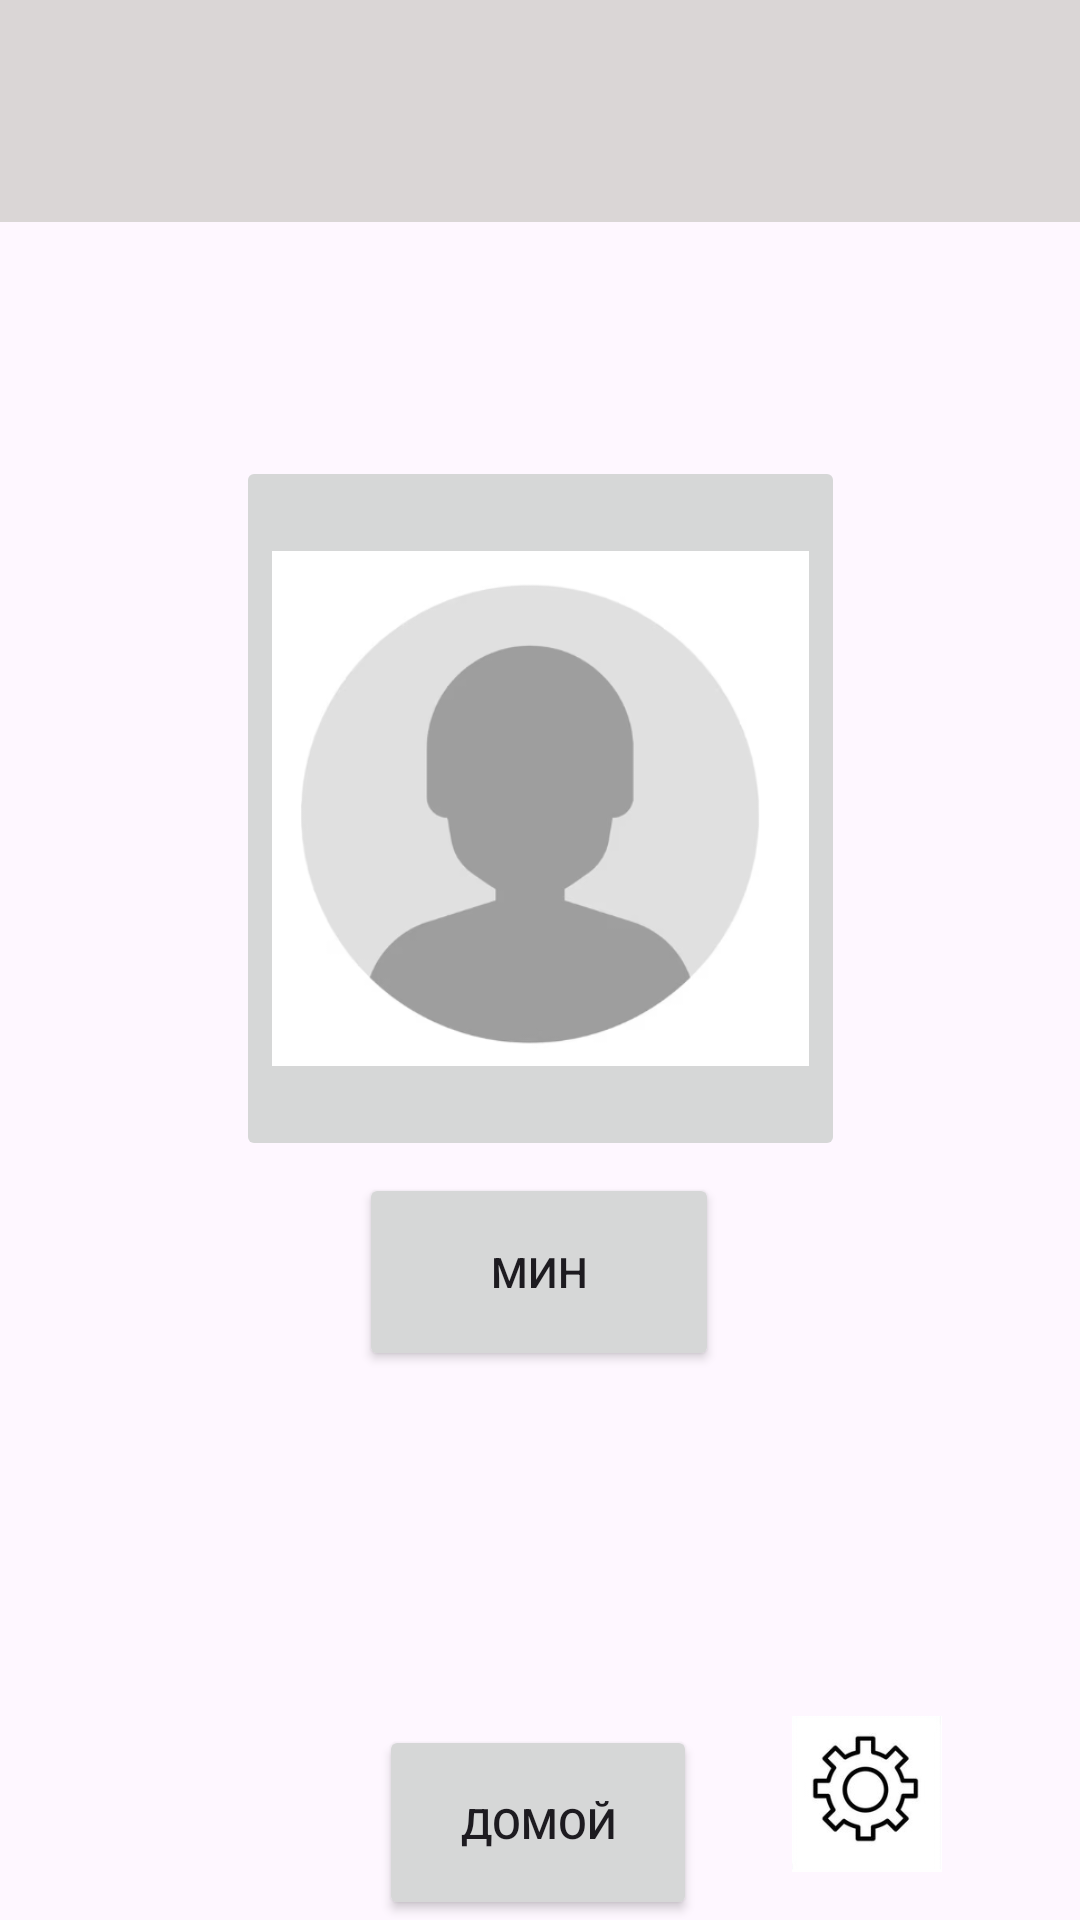

Icon bounding boxes for this 1080 × 1920 phone screenshot, format (left=x1, top=y1, right=x2, bottom=y2):
settings: (left=812, top=1736, right=919, bottom=1842)
